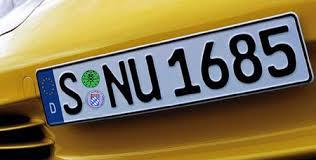1: (167, 45, 202, 98)
5: (258, 25, 296, 77)
6: (196, 39, 232, 89)
8: (227, 31, 264, 84)
N: (101, 60, 134, 108)
S: (57, 70, 84, 117)
U: (127, 54, 162, 103)
